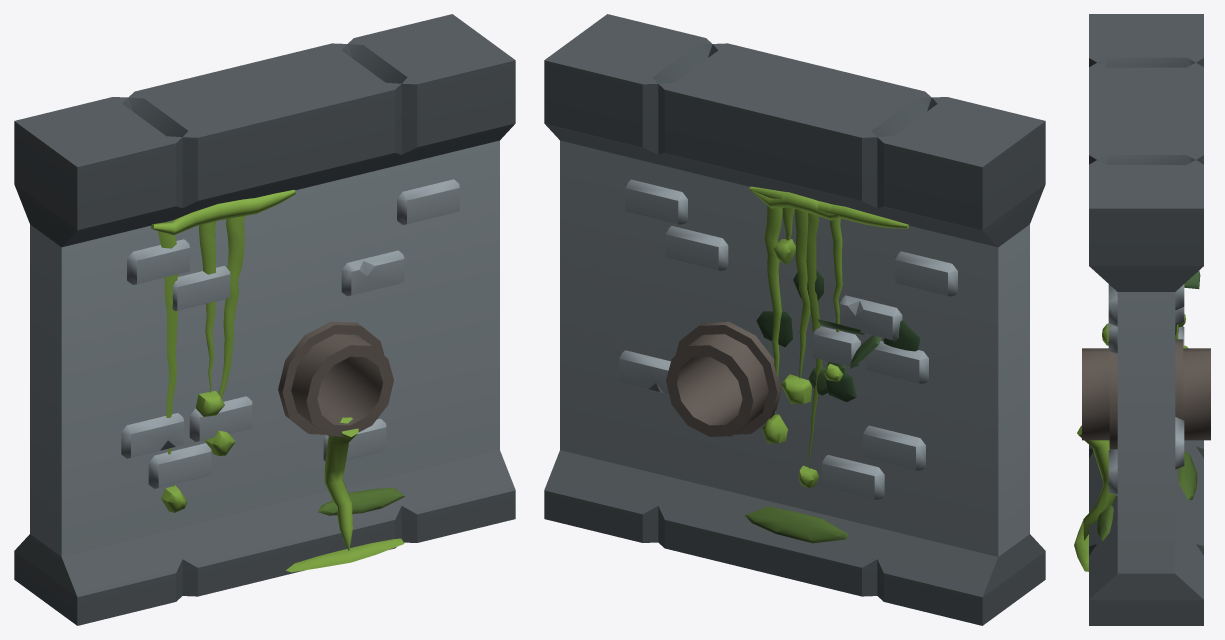
Rendered from wall_slimy_B.glb.
3 renders of one model, left to right at view 1: azimuth 30°, elevation 25°; view 2: azimuth 150°, elevation 25°; view 3: azimuth 270°, elevation 25°, orthographic. The views are drawn at different scales.
Parts seen in each view (by area): view 1: Item; view 2: Item; view 3: Item.
Boxes of the visible parts, x1,y1,x2,y2 form: Item: (14,14,515,625); Item: (544,14,1045,625); Item: (1074,14,1210,625).
Bounding box in the file's own units: 4 × 4 × 1.19.
4 materials, 4 textured.
